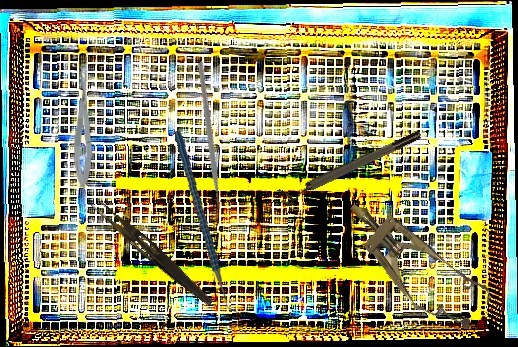Chopper: (129, 60, 282, 219), (165, 130, 252, 318)
Dressing Forceps: (86, 197, 219, 308)
Fixation Ring: (276, 127, 426, 210)
Micro Scissor: (72, 69, 96, 188)
Speculum: (330, 181, 498, 343)
